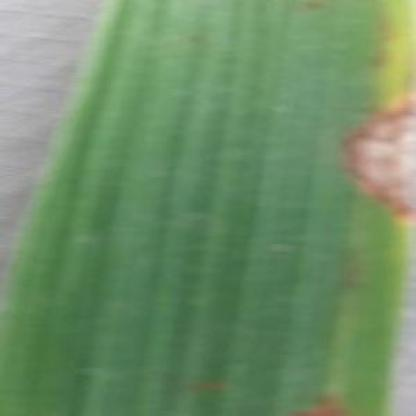Rice blast: (339, 89, 416, 232)
